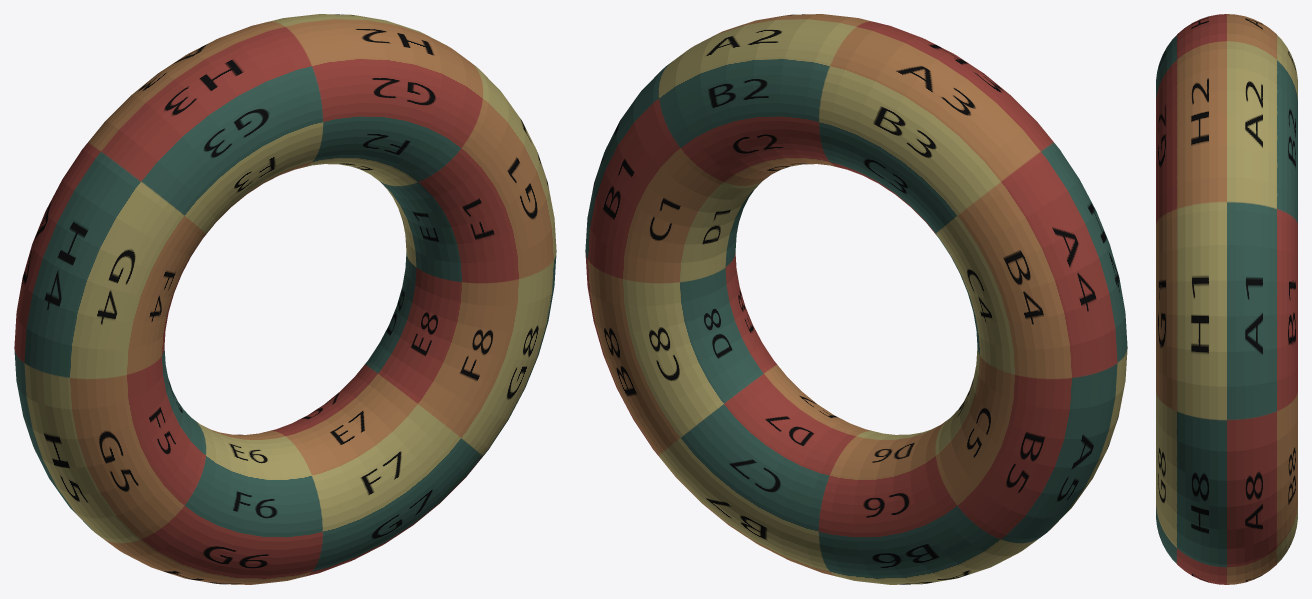
File: texture_torus_R29_r29.glb
3 renders of one model, left to right at view 1: azimuth 30°, elevation 25°; view 2: azimuth 150°, elevation 25°; view 3: azimuth 270°, elevation 25°, orthographic. The views are drawn at different scales.
Visible parts, largest first — view 1: world; view 2: world; view 3: world.
Boxes of the visible parts, box(x1,y1,x2,y2) form: world: box(14, 14, 556, 584); world: box(585, 14, 1127, 584); world: box(1156, 14, 1297, 584).
Size of the model in its own units: 39.07 by 38.99 by 9.71.
Materials: 1 (1 with a texture image).
